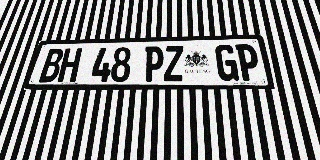4: (90, 47, 114, 82)
8: (110, 47, 132, 82)
B: (38, 49, 65, 82)
G: (215, 44, 239, 81)
H: (57, 48, 82, 82)
P: (235, 44, 262, 81), (143, 46, 164, 82)
Z: (164, 46, 184, 81)
